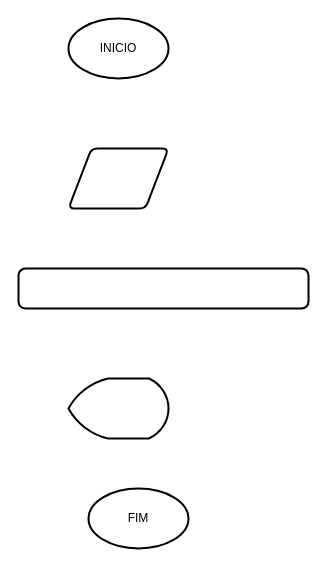
Some shapes in this 326 by 566 pixel diagram are drawn without their labels. The box of each missing label's shape, as (x1, y1, x2, y2) in pixels:
Custo_fabrica: (67, 147, 169, 209)
total=((Custo_fabrica*0.45) +Custo_fabrica)*0.28: (17, 267, 309, 309)
